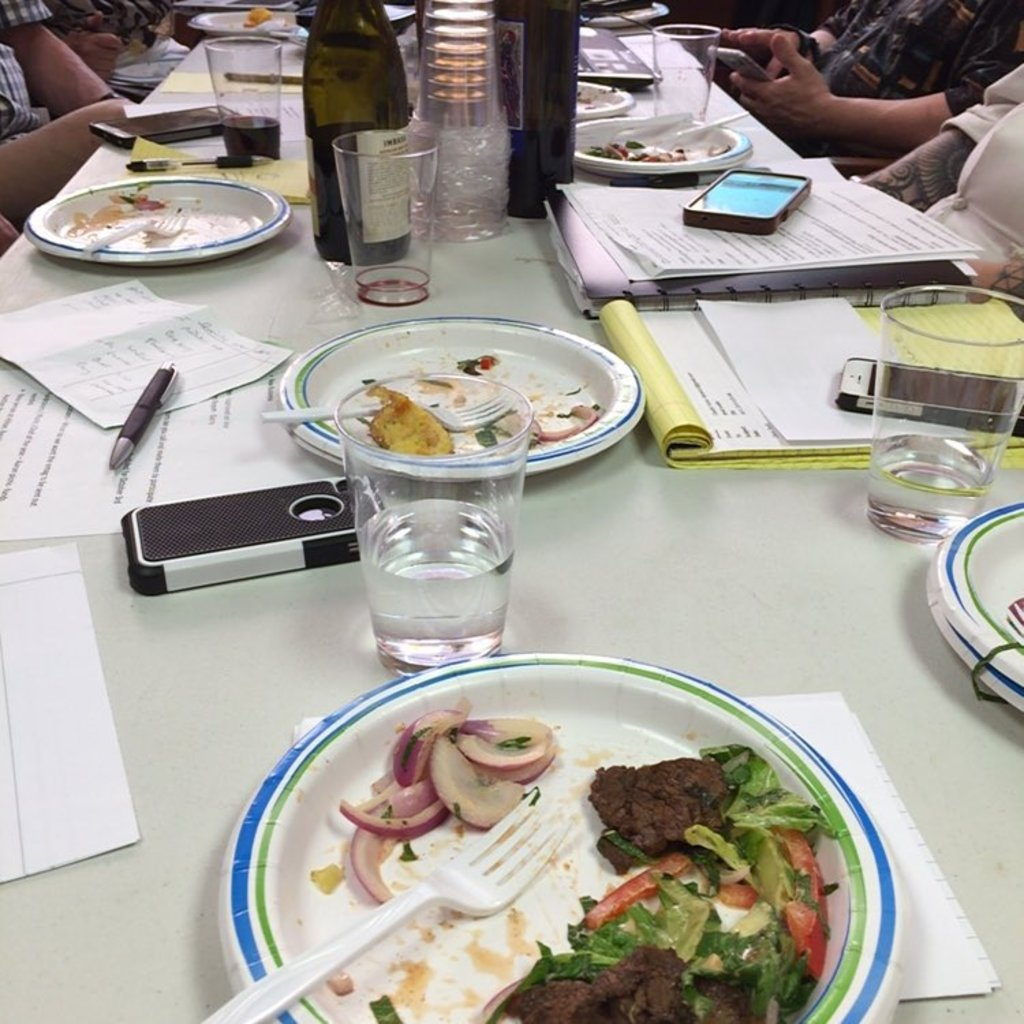salad: (472, 740, 860, 1023)
